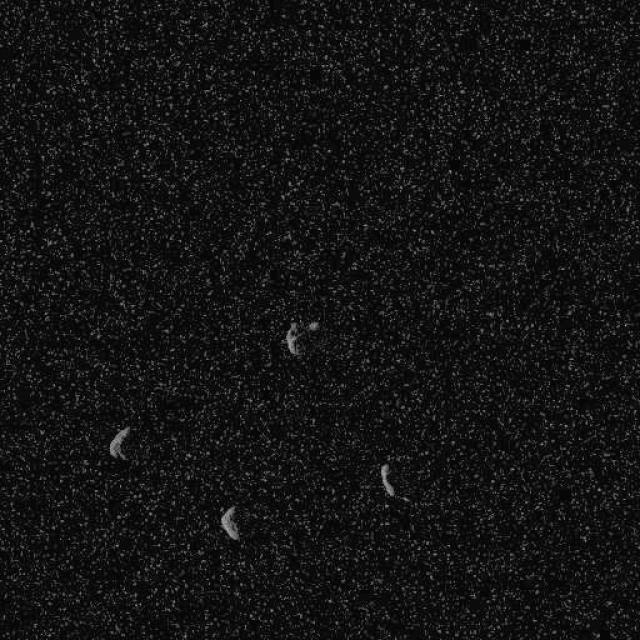D2: (108, 425, 132, 461), (219, 504, 240, 541), (284, 322, 304, 356), (379, 462, 396, 498)
